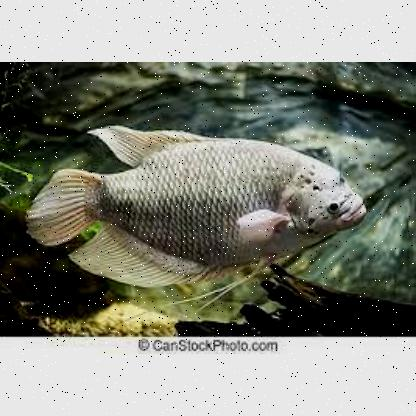gurame: (25, 126, 367, 286)
